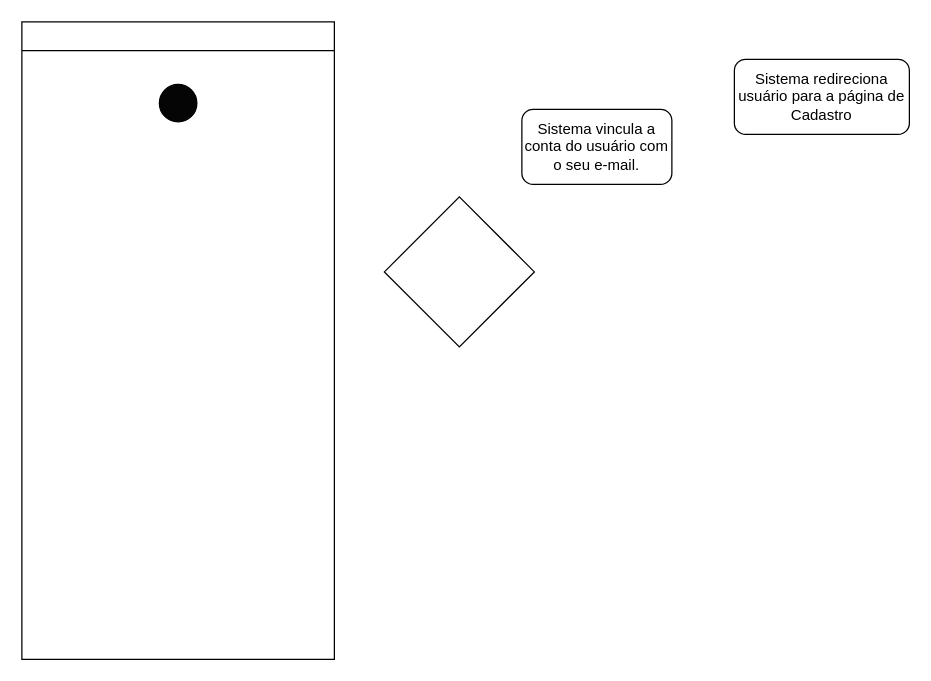
This 931x681 diagram has some shape labels left out. The shapes that lost their labels are listed below. From the top down, each one's box as (x1, y1, x2, y2) in pixels, then its label:
(383, 196, 534, 347): Usuário possui conta?
(21, 21, 334, 659): Vertical Container
